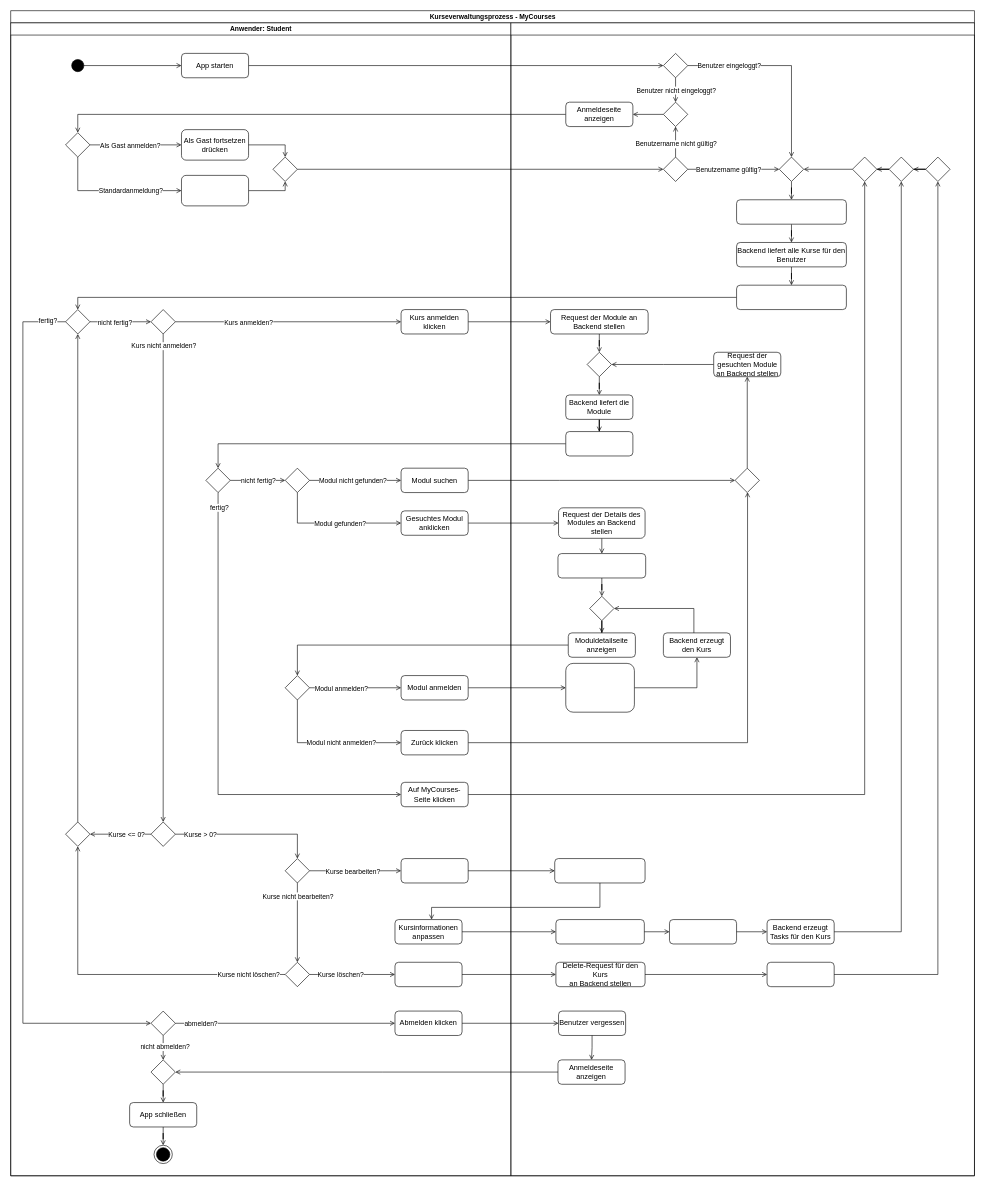
This 985x1186 diagram has some shape labels left out. The box of each missing label's shape, as (x1, y1, x2, y2) in pixels:
Angemeldete Kurse anzeigen: (736, 285, 846, 310)
Backend aktualisiert den Kurs: (669, 919, 737, 944)
Backend liefert die Details für das Modul: (557, 553, 646, 578)
Backend löscht den Kurs für den Benutzer: (766, 962, 834, 987)
Benutzername eingeben und einloggen: (181, 175, 249, 206)
Kurs bearbeiten klicken: (400, 858, 468, 883)
Kurs löschen klicken: (394, 962, 462, 987)
Moduleseite anzeigen: (565, 431, 633, 456)
OrganisationApp: (510, 22, 974, 1176)
Request der Anmeldung des Modules für den Benutzer an Backend stellen: (565, 663, 634, 712)
Request von allen Kursen für den Benutzer an Backend stellen: (736, 199, 846, 224)
Update dialog anzeigen: (554, 858, 645, 883)
Update-Request für den Kurs an Backend stellen: (555, 919, 644, 944)
